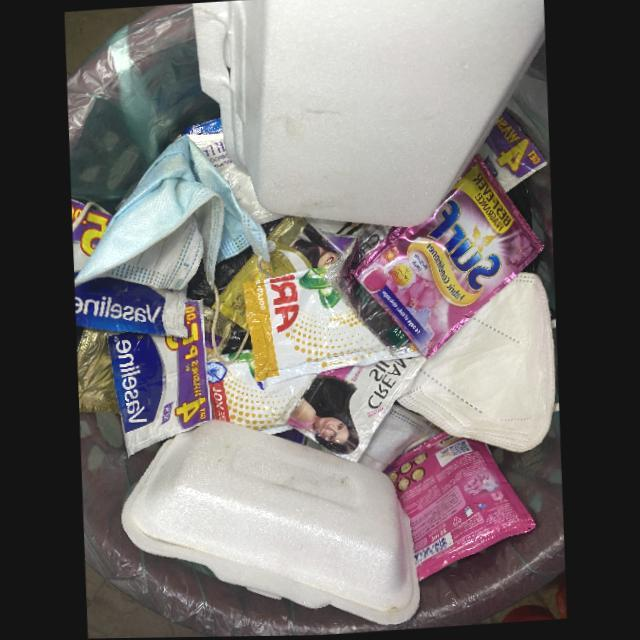styrofoam: (193, 0, 545, 228), (121, 418, 422, 625)
wrapper: (353, 154, 538, 359), (383, 431, 539, 582), (243, 267, 422, 388), (108, 300, 211, 457), (286, 356, 425, 459), (207, 353, 318, 436), (460, 106, 549, 194), (74, 273, 191, 339), (71, 200, 112, 278)
